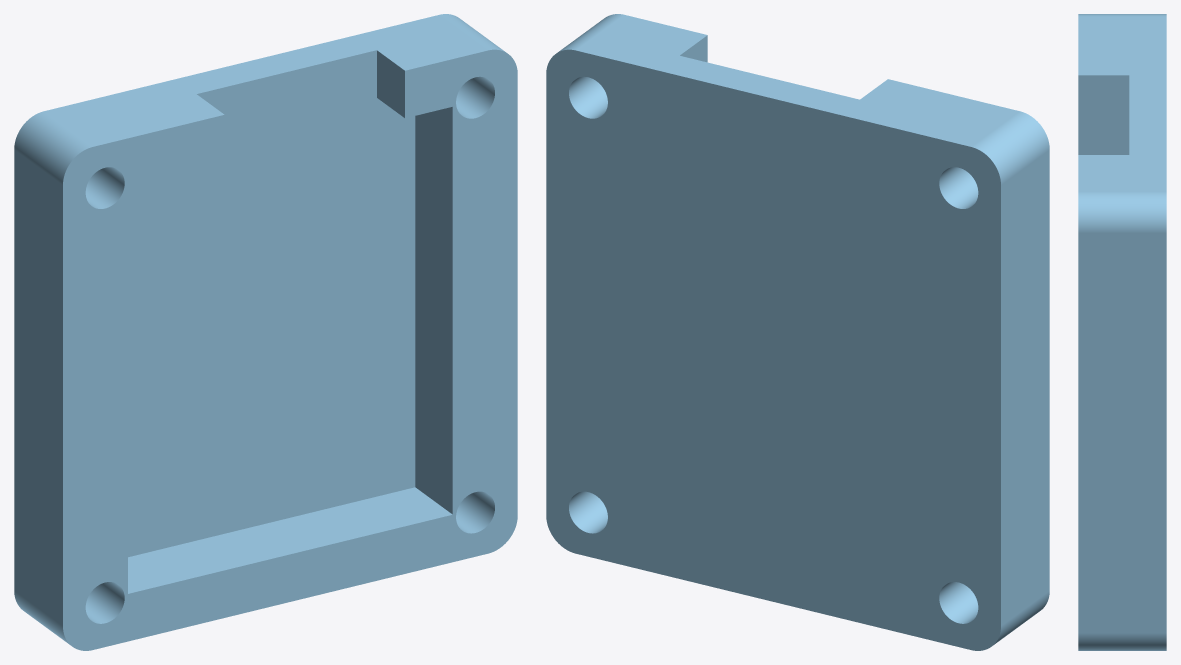
File: Bottom.obj
3 renders of one model, left to right at view 1: azimuth 30°, elevation 25°; view 2: azimuth 150°, elevation 25°; view 3: azimuth 270°, elevation 25°, orthographic. The views are drawn at different scales.
Parts seen in each view (by area): view 1: mesh21, mesh16, mesh2, mesh20, mesh12, mesh18, mesh15, mesh5, mesh13, mesh10, mesh9, mesh11 (+1 smaller); view 2: mesh1, mesh2, mesh12, mesh5, mesh10, mesh9, mesh11, mesh0; view 3: mesh4, mesh12, mesh6, mesh14, mesh19, mesh8, mesh5.
Part boxes in pixels (x1,y1,x2,y2): mesh21: (128, 98, 415, 557); mesh16: (63, 49, 517, 650); mesh2: (14, 150, 62, 625); mesh20: (415, 107, 452, 514); mesh12: (44, 15, 487, 146); mesh18: (128, 487, 452, 593); mesh15: (197, 50, 376, 134); mesh5: (14, 111, 92, 184); mesh13: (377, 50, 404, 117); mesh10: (85, 582, 124, 623); mesh9: (456, 491, 494, 533); mesh11: (85, 167, 124, 208); mesh1: (546, 49, 1000, 650); mesh2: (1001, 150, 1049, 625); mesh12: (576, 15, 1019, 146); mesh5: (971, 111, 1049, 184); mesh10: (939, 582, 978, 623); mesh9: (569, 491, 607, 533); mesh11: (939, 167, 978, 208); mesh0: (569, 76, 607, 118); mesh4: (1078, 233, 1166, 632); mesh12: (1078, 17, 1166, 191); mesh6: (1078, 191, 1166, 233); mesh14: (1078, 75, 1129, 118); mesh19: (1078, 118, 1129, 154); mesh8: (1078, 633, 1166, 650); mesh5: (1078, 14, 1166, 16).
Size of the model in its own units: 0.07 by 0.074 by 0.013.
